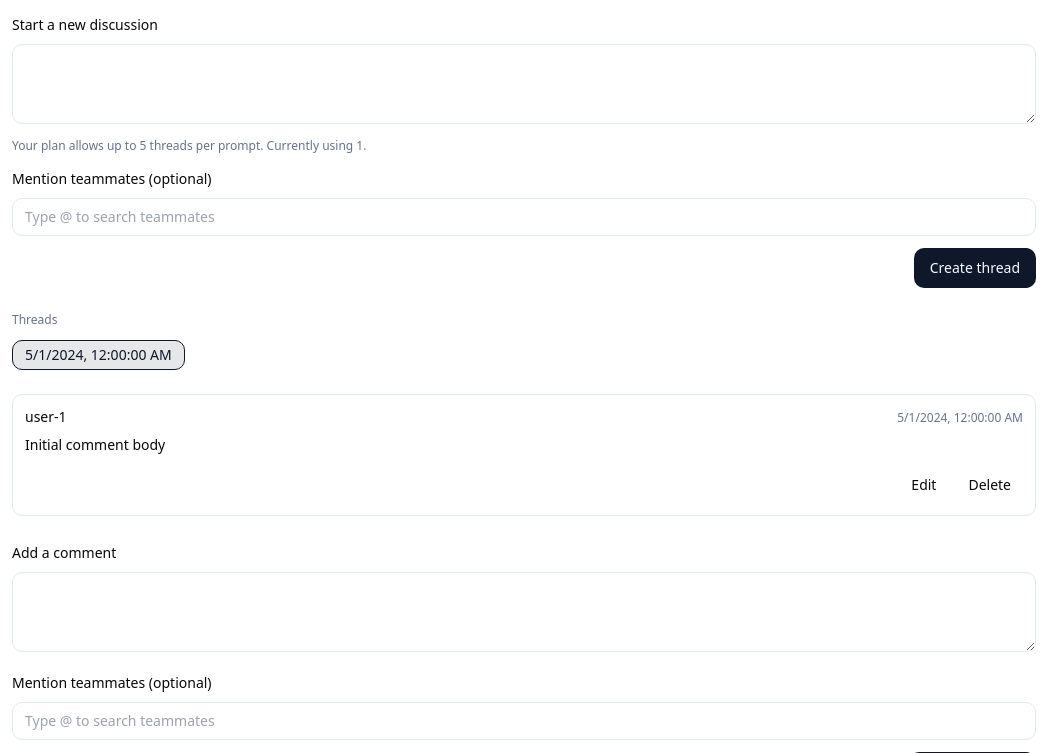
PromptCommentsPanel - comment editing › allows the author to edit a comment and updates the cache on success
Check: the text "Initial comment body" is shown, box [25,435,165,454]
Click the button "Edit": (924,485) [899,467,948,503]
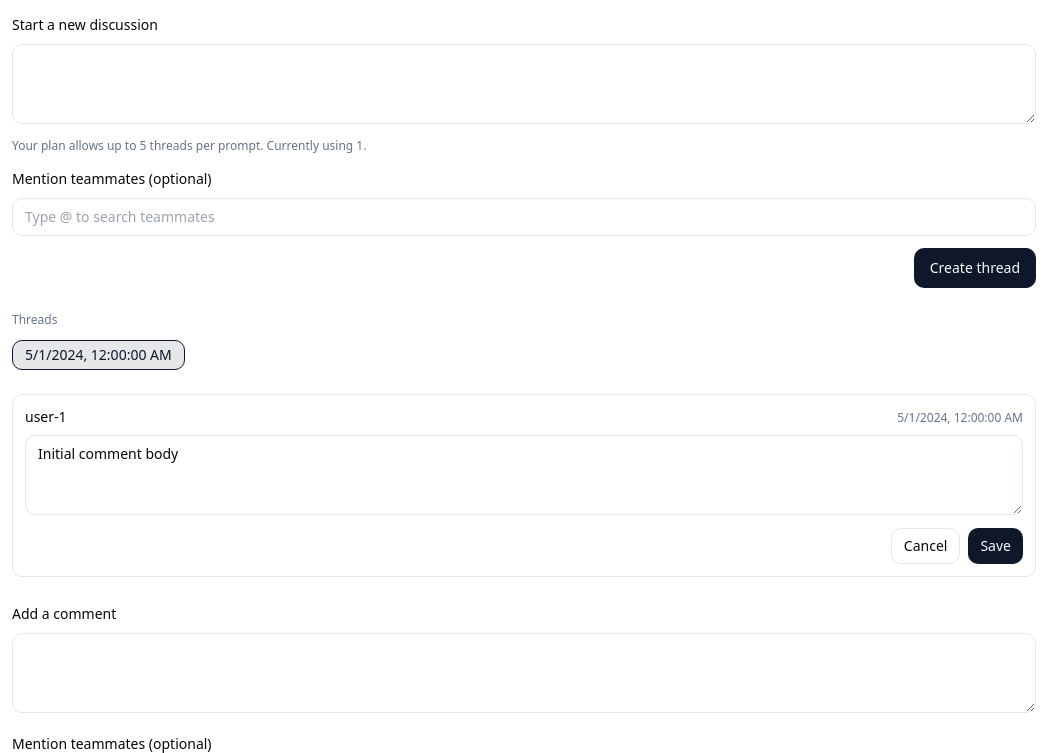
Replace the text in the text box showing "Initial comment body" with "Updated comment body   ": (524,475) [25,435,1023,515]
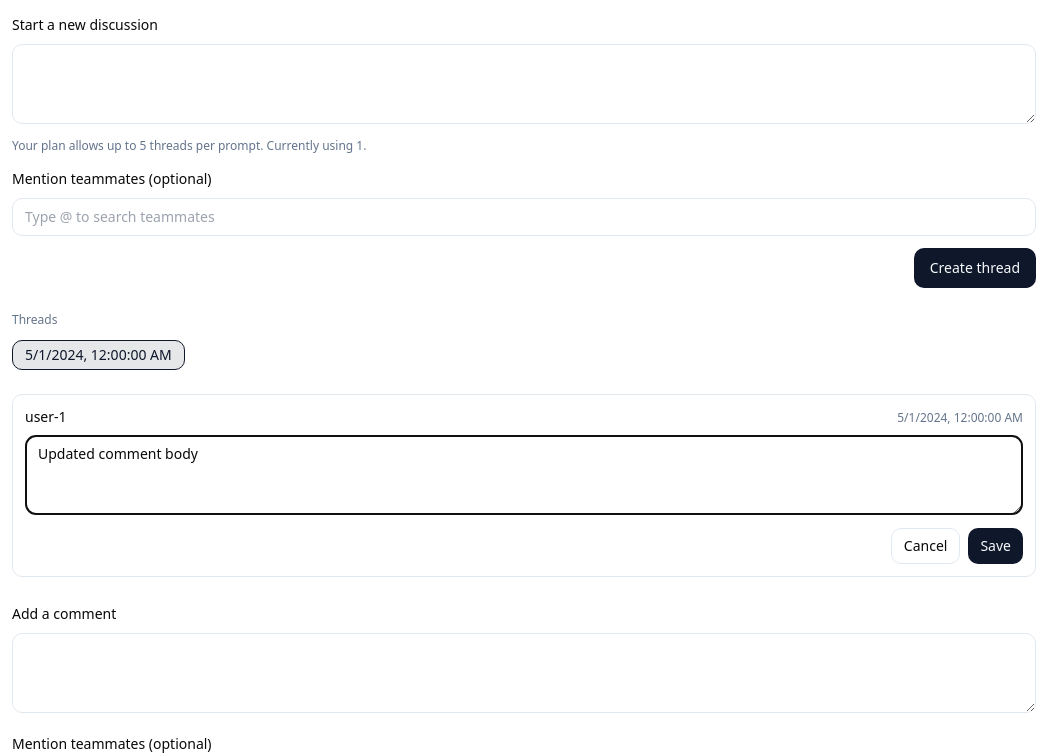
Click the button "Save": (996,546) [968,528,1023,564]
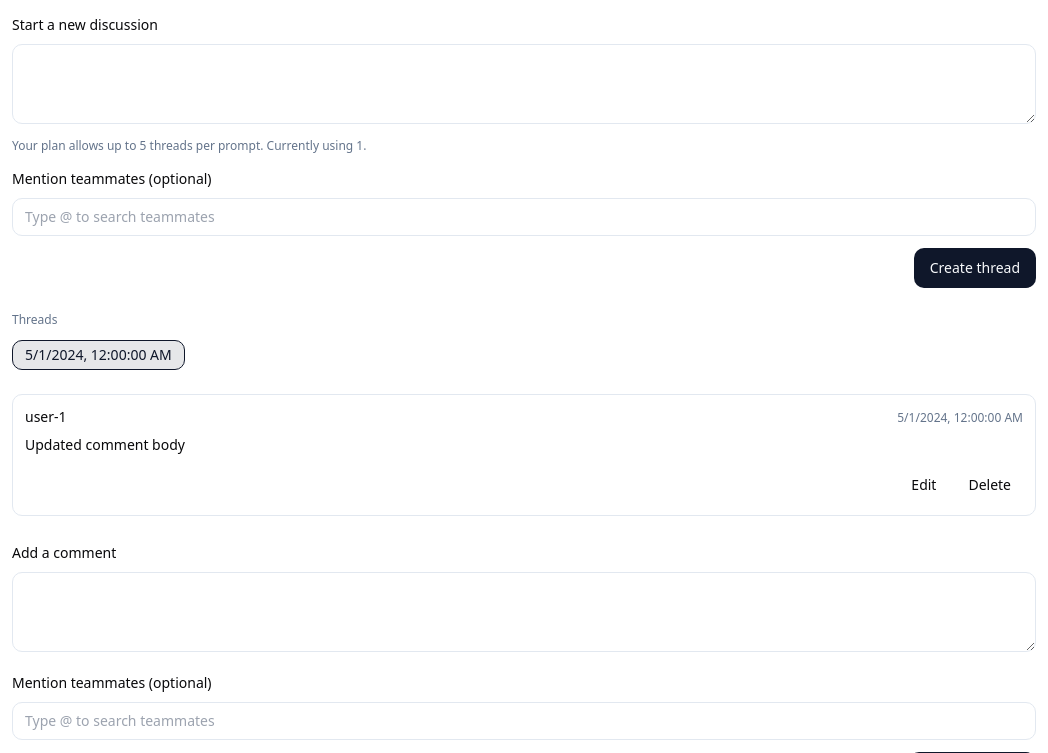
Check: the text "Updated comment body" is shown, box [25,435,185,454]
Check: the button "Save" is gone
Check: the list item shows "Updated comment body", box [25,435,185,454]
